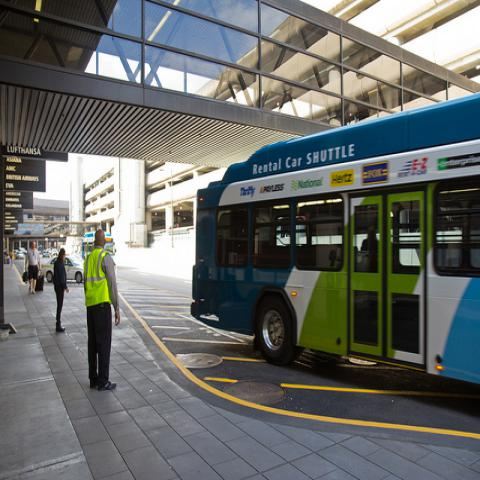bus: (191, 90, 479, 383), (81, 232, 115, 262)
car: (42, 256, 84, 283), (19, 247, 28, 255), (16, 251, 24, 259), (42, 250, 50, 257)
